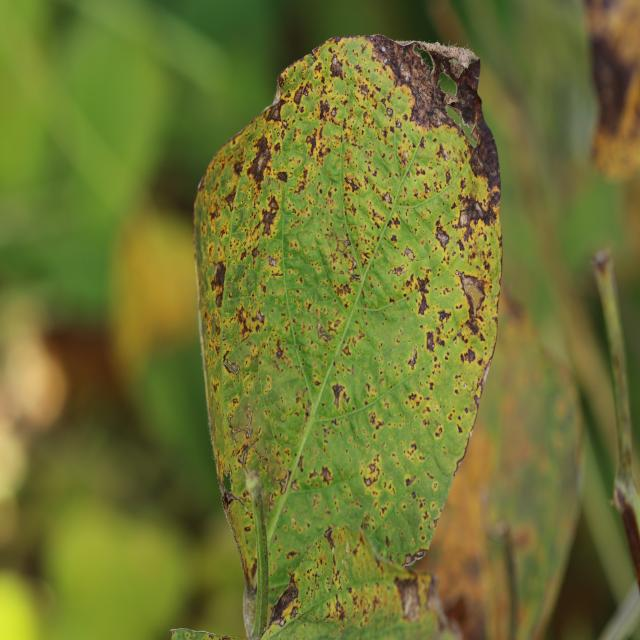Bacterial_Blight: (327, 229, 363, 295), (266, 574, 301, 630), (455, 192, 494, 241), (456, 270, 488, 324), (246, 136, 274, 187), (443, 594, 475, 637), (394, 574, 419, 622), (328, 376, 349, 419), (258, 196, 280, 237), (413, 45, 437, 81), (469, 140, 491, 179), (210, 259, 226, 305), (324, 592, 347, 623), (477, 354, 493, 395), (234, 305, 253, 337), (402, 547, 428, 567), (363, 457, 381, 484), (448, 56, 467, 79), (317, 320, 335, 343), (276, 470, 292, 494), (305, 129, 319, 156), (329, 54, 344, 79), (222, 187, 237, 210), (435, 227, 450, 249), (417, 291, 430, 316), (343, 175, 361, 193), (222, 358, 240, 376), (436, 308, 452, 328), (324, 527, 336, 553), (461, 346, 477, 365), (406, 346, 418, 370), (318, 99, 331, 121), (319, 465, 334, 484), (237, 447, 250, 468), (425, 330, 436, 353), (293, 86, 305, 107), (221, 488, 233, 509), (437, 143, 450, 162), (274, 341, 285, 360), (402, 245, 415, 260), (391, 264, 405, 276), (405, 474, 417, 487), (381, 191, 392, 205), (297, 456, 305, 473), (267, 255, 277, 268), (402, 70, 411, 82), (217, 634, 235, 640), (456, 457, 464, 470), (395, 118, 402, 129), (245, 427, 251, 439), (386, 107, 393, 117), (382, 57, 389, 66), (282, 120, 288, 129), (403, 150, 409, 159), (443, 193, 449, 201), (432, 481, 438, 489), (381, 45, 387, 53)
Soybean: (194, 35, 502, 640)
